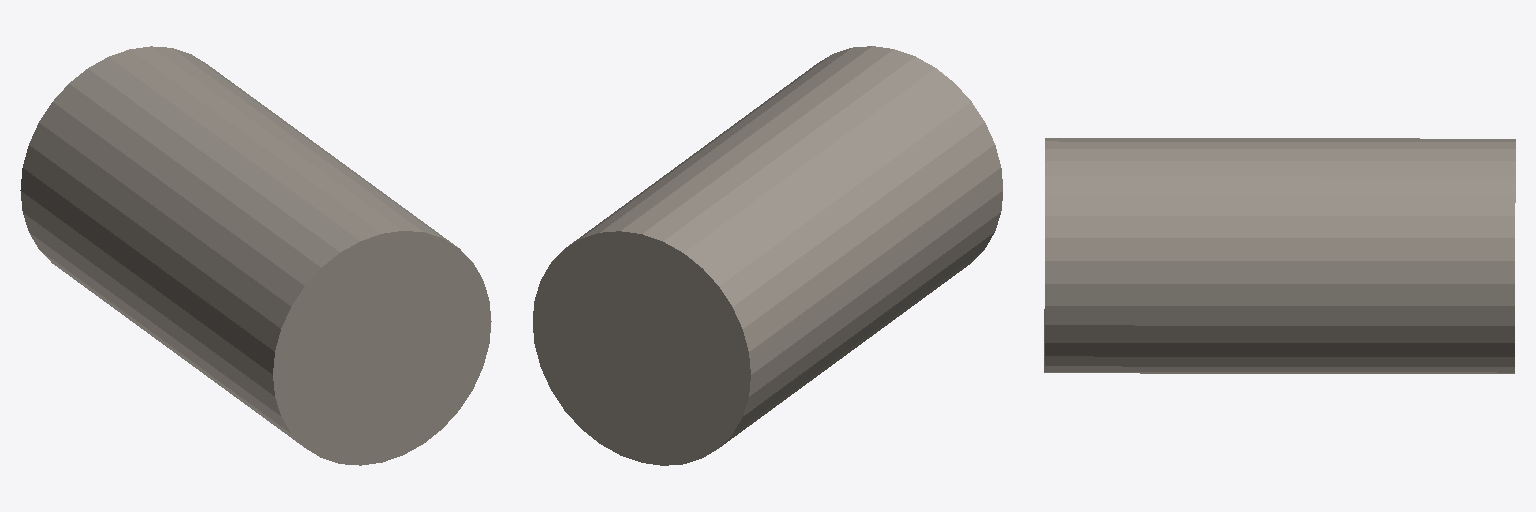
The robot description file, URDF, robot "barile":
<?xml version="1.0"?>
<robot
  name="barile">
  <link
    name="barile">
    <inertial>
      <origin
        xyz="0 0 0"
        rpy="1.57 0 0" />
      <mass
        value="23" />
      <inertia
        ixx="0.3"
        ixy="0.0001"
        ixz="-0.085"
        iyy="0.750"
        iyz="-0.000"
        izz="0.817" />
    </inertial>
    <visual>
      <origin
        xyz="0 0 0"
        rpy="1.57 0 0" />
      <geometry>
        <cylinder length="0.8" radius="0.2" />
      </geometry>
      <material
        name="">
        <color
          rgba="0.647058823529412 0.619607843137255 0.588235294117647 0.5" />
      </material>
    </visual>
    <collision>
      <origin
        xyz="0 0 0"
        rpy="1.57 0  0" />
      <geometry>
        <cylinder length="0.8" radius="0.2" />
      </geometry>
    </collision>
  </link>

  <gazebo reference="barile">
    <material>Gazebo/PaintedWall</material>
  <static>true</static>
    <turnGravityOff>true</turnGravityOff>
  </gazebo>
</robot>

--- Facts derived from the render (not from the file) ---
The picture shows the robot from 3 angles, left to right: view 1: azimuth 30°, elevation 25°; view 2: azimuth 150°, elevation 25°; view 3: azimuth 270°, elevation 25°; orthographic projection.
Robot: barile — 1 links, 0 joints (none); root link barile; default pose: every joint at zero.
Visible links, largest first — view 1: barile; view 2: barile; view 3: barile.
Link boxes in pixels (<box>): barile: <box>20,46,491,465</box>; barile: <box>533,46,1002,465</box>; barile: <box>1044,138,1515,373</box>.
Bounding box of the posed robot: 0.4 × 0.8003 × 0.4006 m (x, y, z).
Geometry: primitives only (box / cylinder / sphere), no mesh files.
